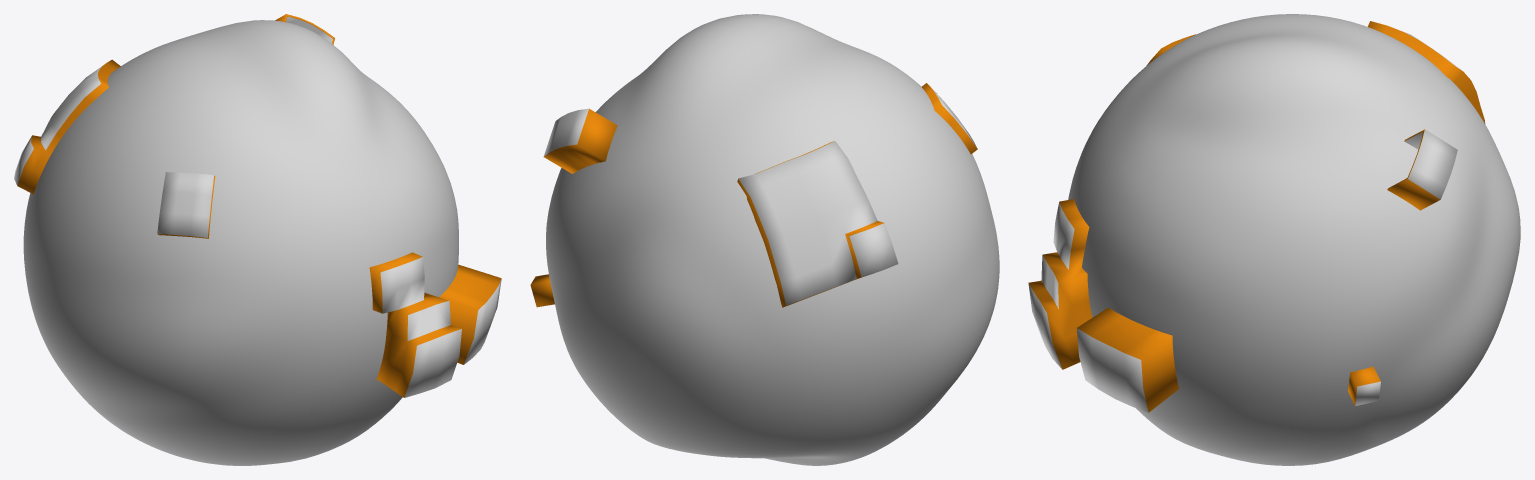
The model's file is planet2.fbx.
3 views of the same model, side by side, from view 1: azimuth 30°, elevation 25°; view 2: azimuth 150°, elevation 25°; view 3: azimuth 270°, elevation 25° (orthographic). The views are drawn at different scales.
Visible parts, largest first — view 1: Planet2; view 2: Planet2; view 3: Planet2.
Boxes of the visible parts, <box> form: Planet2: <box>14,14,501,465</box>; Planet2: <box>530,14,999,465</box>; Planet2: <box>1028,14,1520,465</box>.
Size of the model in its own units: 42.36 by 42.53 by 45.32.
